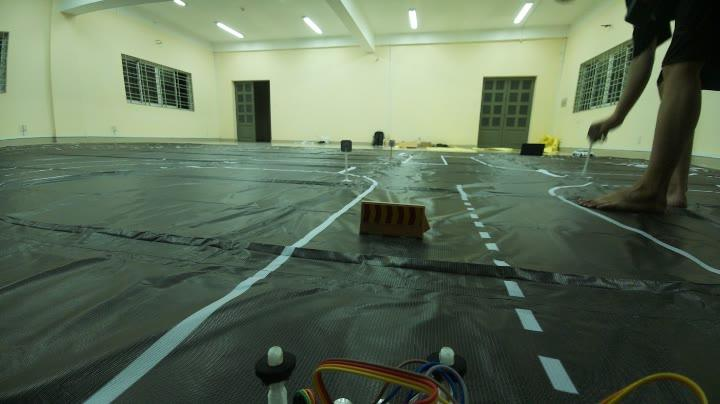roadblock: (353, 188, 438, 250)
